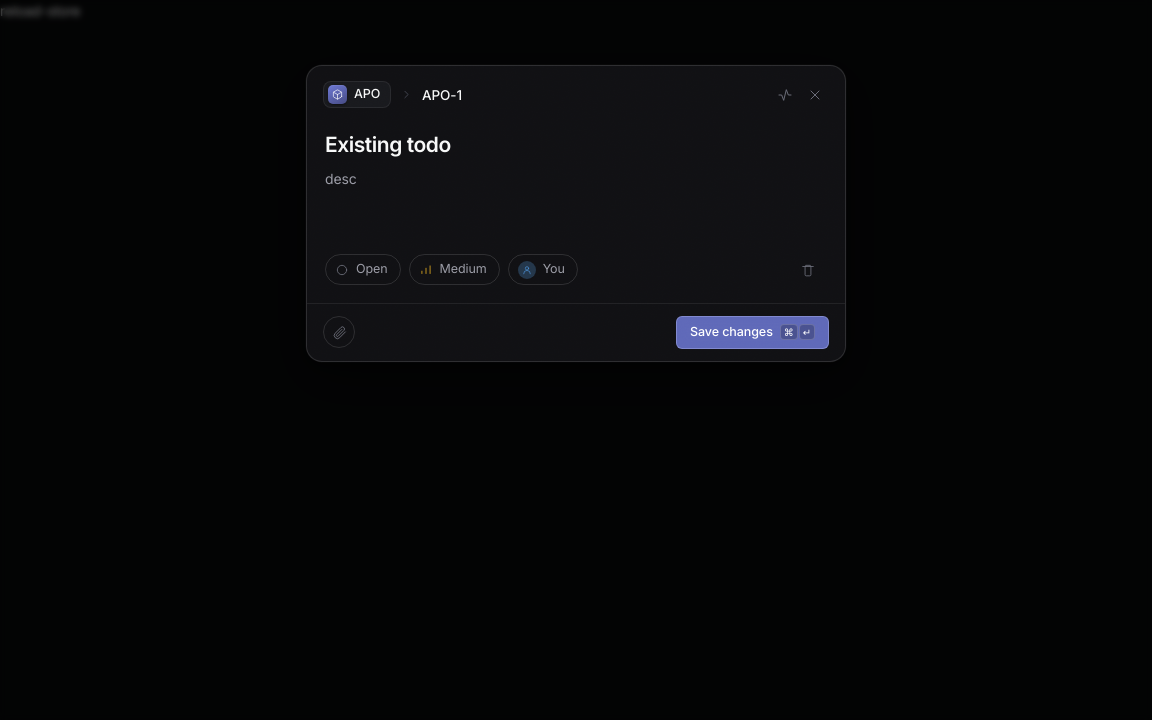
Scenario: ItemModal error feedback › shows a red error toast and keeps the dialog open when the save mutation rejects
Replace the text in the field showing "Existing todo" with "Edited title" at {"x": 576, "y": 145}, box [325,125,827,164]
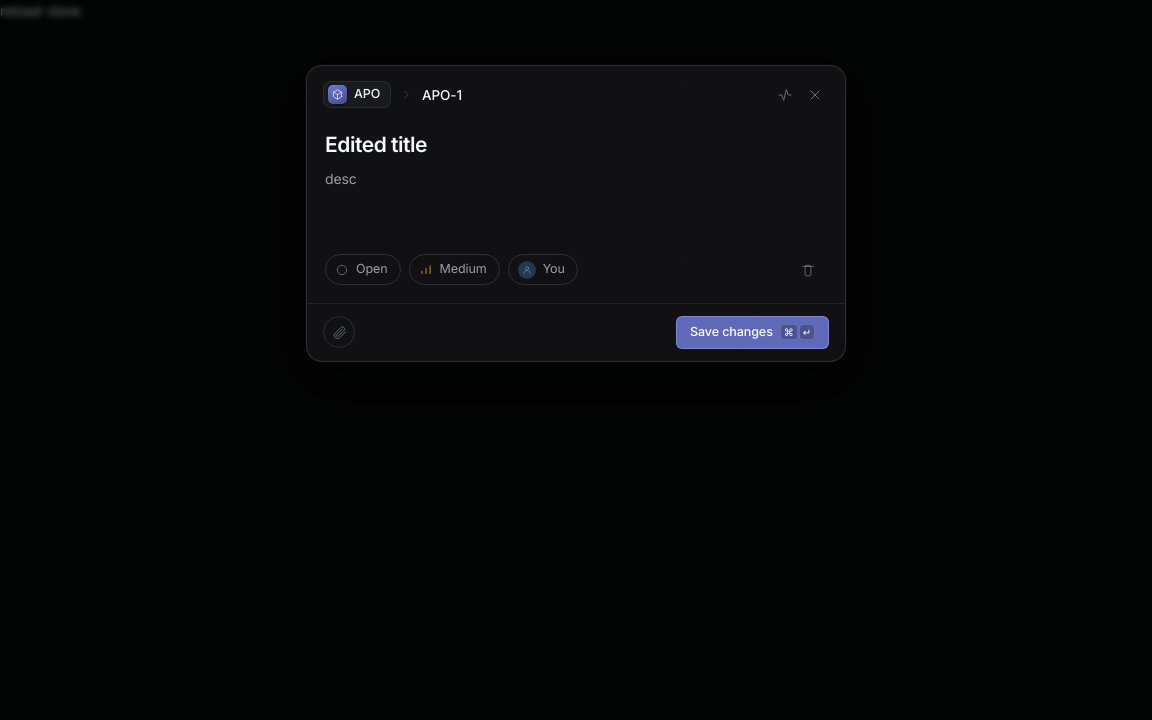
Click the button "Save changes ⌘ ↵".
click(752, 332)  # box [676,316,829,349]
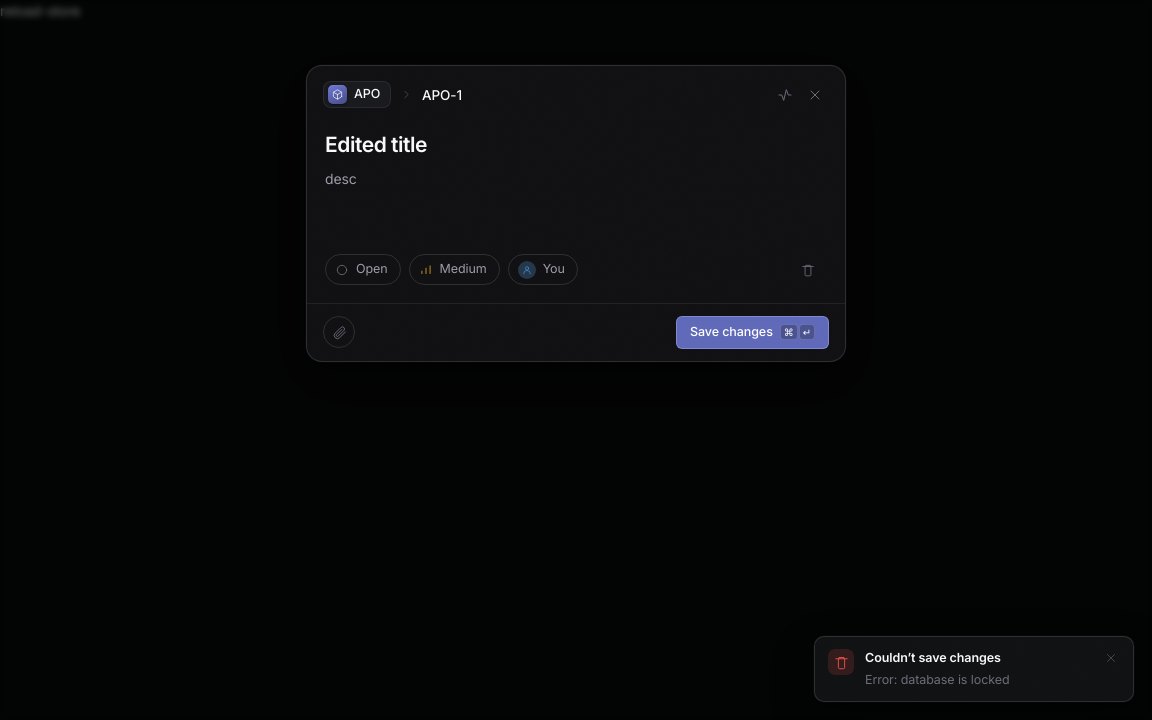
Now the text "Couldn’t save changes" is shown, box [865,650,1001,665]
Now the text "Error: database is locked" is shown, box [865,672,1010,687]
